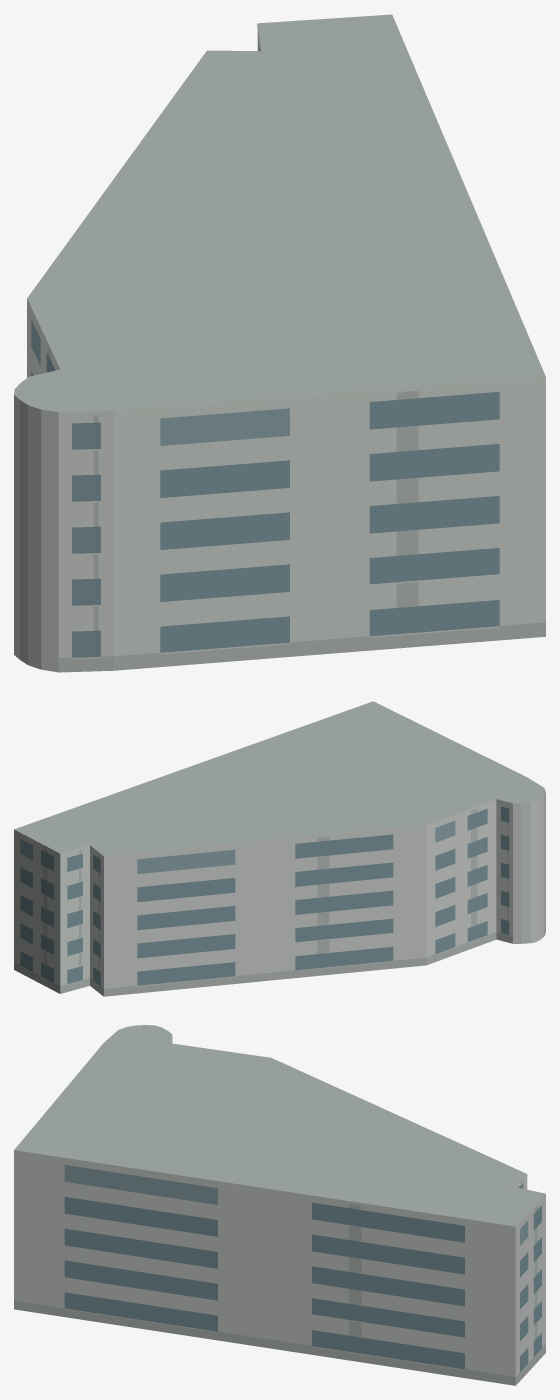
The model's file is survey-upis-32782685.glb.
The picture shows the model from 3 angles, top to bottom: view 1: azimuth 30°, elevation 25°; view 2: azimuth 150°, elevation 25°; view 3: azimuth 270°, elevation 25°; orthographic projection. The views are drawn at different scales.
Visible parts, largest first — view 1: survey-upis-32782685.tmp; view 2: survey-upis-32782685.tmp; view 3: survey-upis-32782685.tmp.
Part boxes in pixels (x1,y1,x2,y2): survey-upis-32782685.tmp: [14, 14, 545, 672]; survey-upis-32782685.tmp: [14, 701, 545, 996]; survey-upis-32782685.tmp: [14, 1025, 545, 1385].
Bounding box in the file's own units: 41.37 × 15.25 × 46.15.
